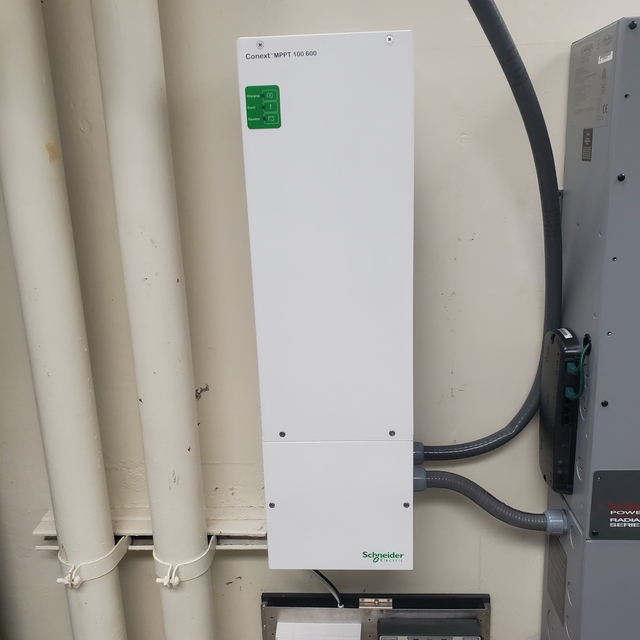charge_controller: (237, 29, 422, 575)
